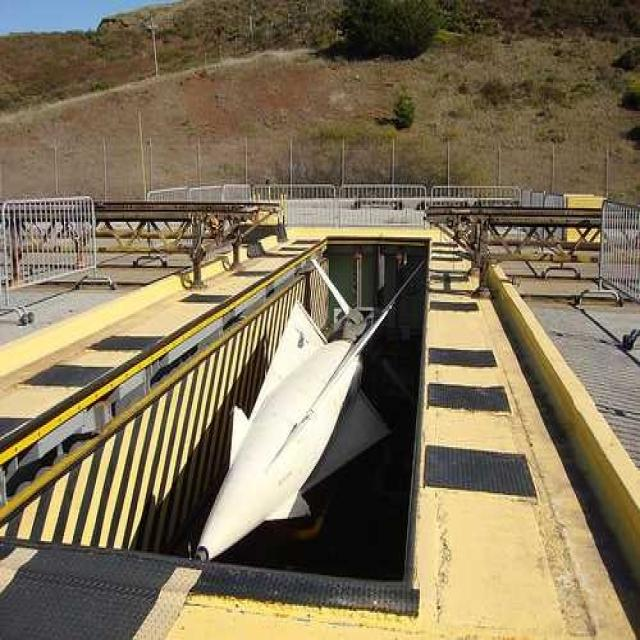missile: (182, 268, 405, 570)
